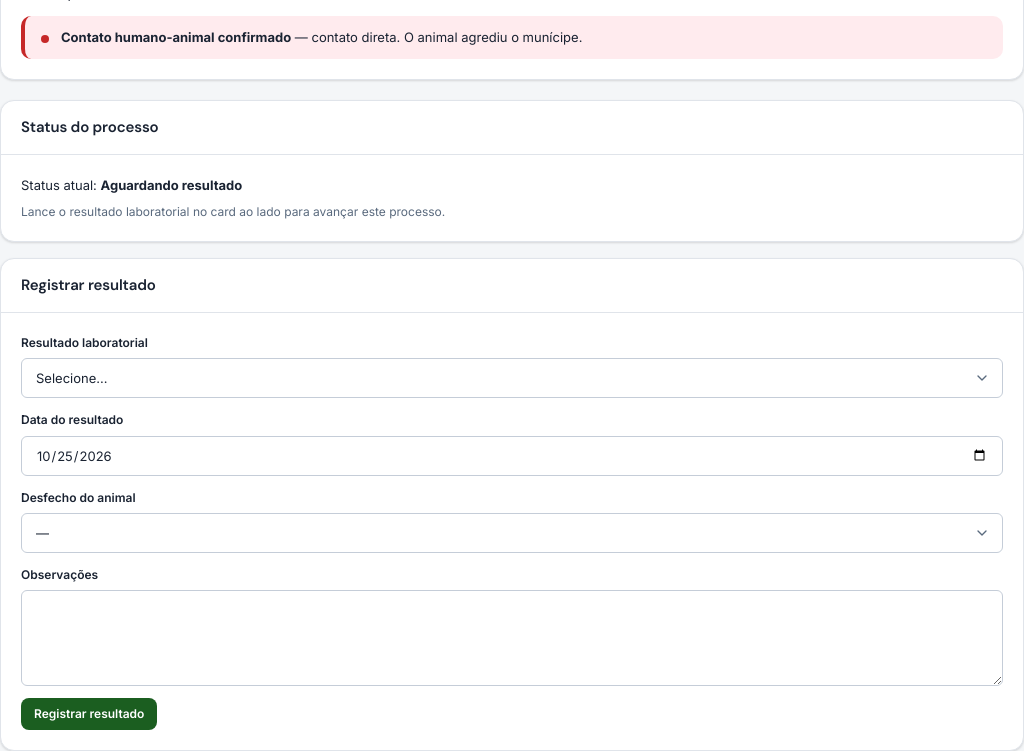
Scenario: ProcessoDetalhe — resultado laboratorial (T37) › resultado negativo: sem confirmação, registra direto e mostra o modo somente-leitura com histórico
(page scrolled)
Select "Negativo" in the dropdown labelled "Resultado laboratorial" at point(512, 378), box top-left (21, 358), bottom-right (1003, 398)
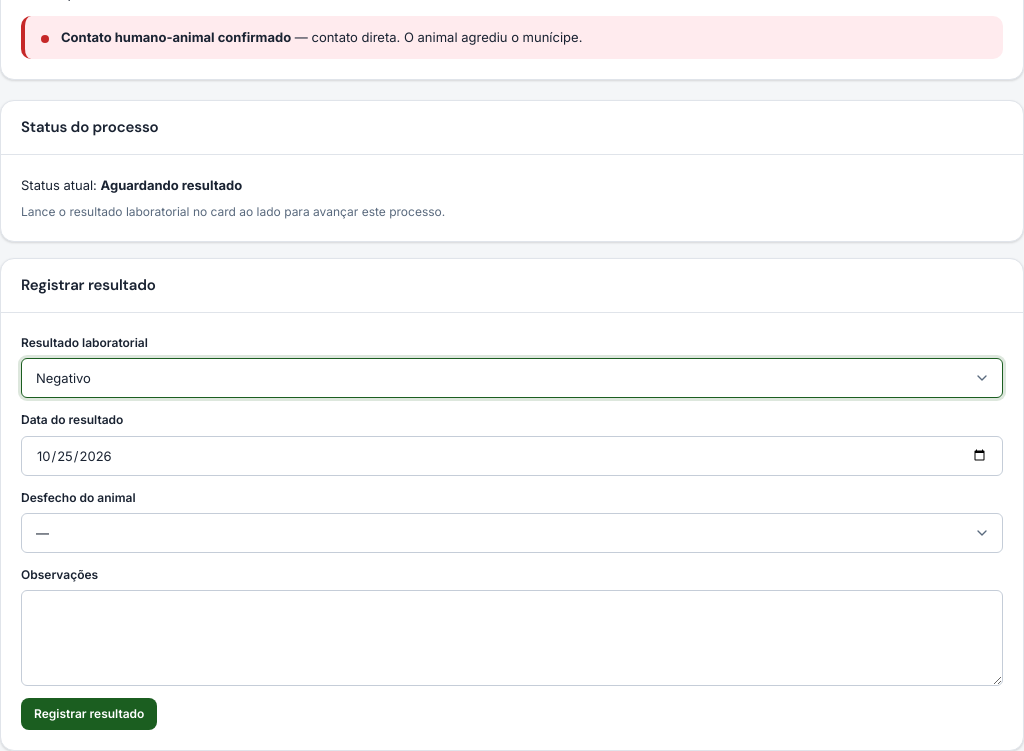
Click the button "Registrar resultado" at point(89, 714), box top-left (21, 698), bottom-right (157, 730)
(page scrolled)
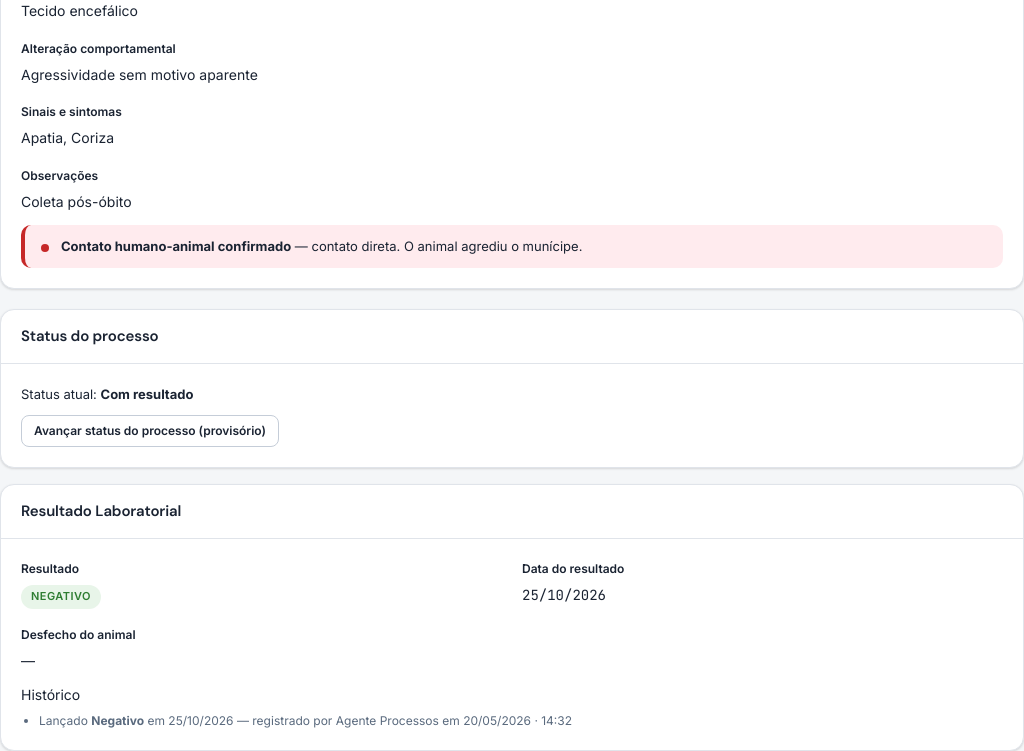
Expected: the dropdown "Confirmar lançamento do resultado" is gone
Expected: the 1st text "Negativo" is shown, top-left (21, 585), bottom-right (101, 609)
Expected: the heading "Registrar resultado" is gone
